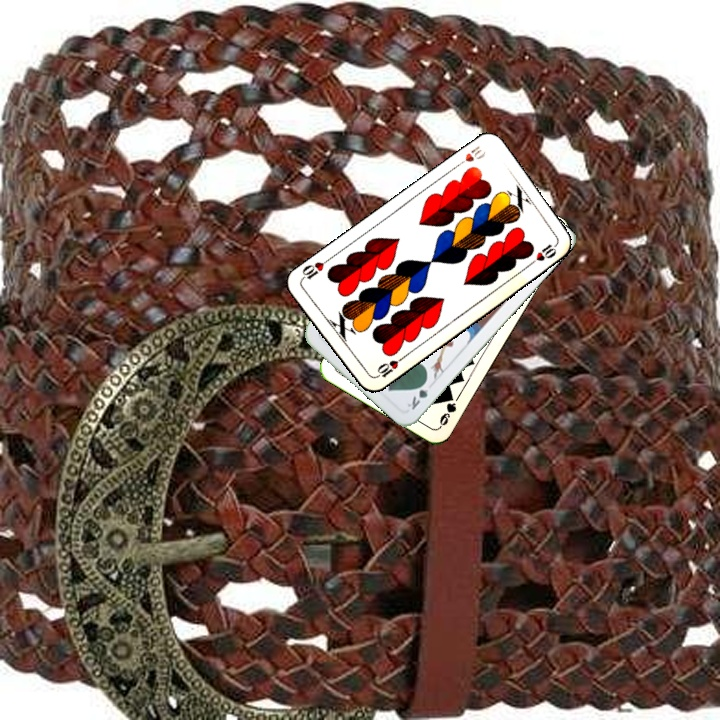G9: (435, 390, 459, 430)
GK: (403, 376, 431, 413)
H10: (451, 142, 488, 170), (371, 353, 406, 381)
